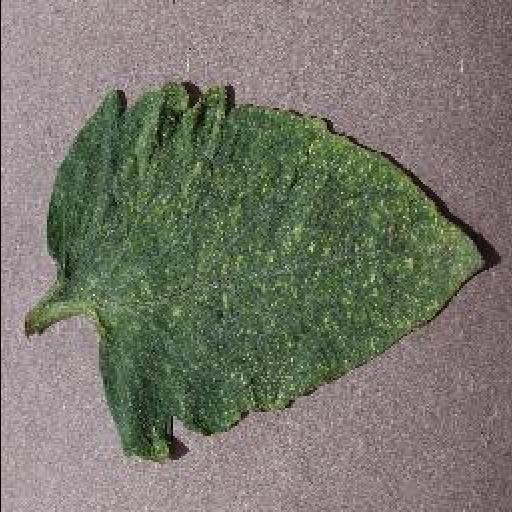disease_tomato: (42, 76, 488, 462)
